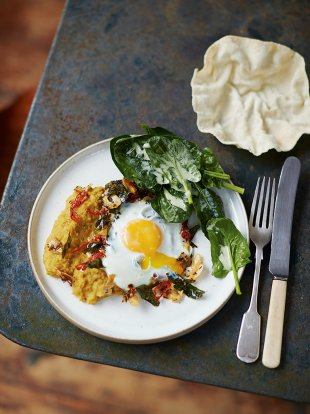chopped lettuce: (124, 145, 210, 205)
fried egg: (104, 209, 186, 286)
